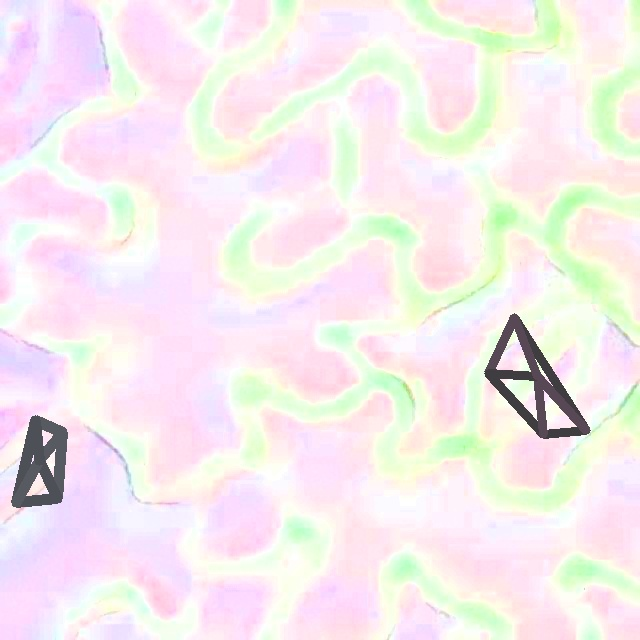close: (484, 313, 590, 438)
open: (11, 416, 67, 503)
